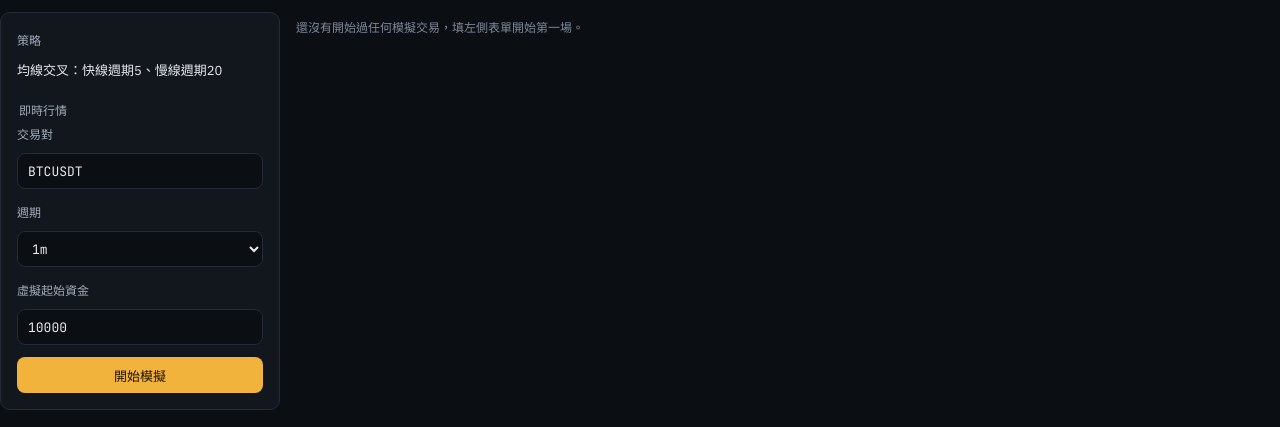
Test: PaperTrading › 收到 bar 事件時更新權益/部位/成交統計並累積曲線
The width and height of the screenshot is (1280, 427).
Check: the text "均線交叉：快線週期5、慢線週期20" is shown, box top-left (17, 62), bottom-right (222, 79)
Click the button "開始模擬" at [140, 375], box top-left (17, 357), bottom-right (263, 393)
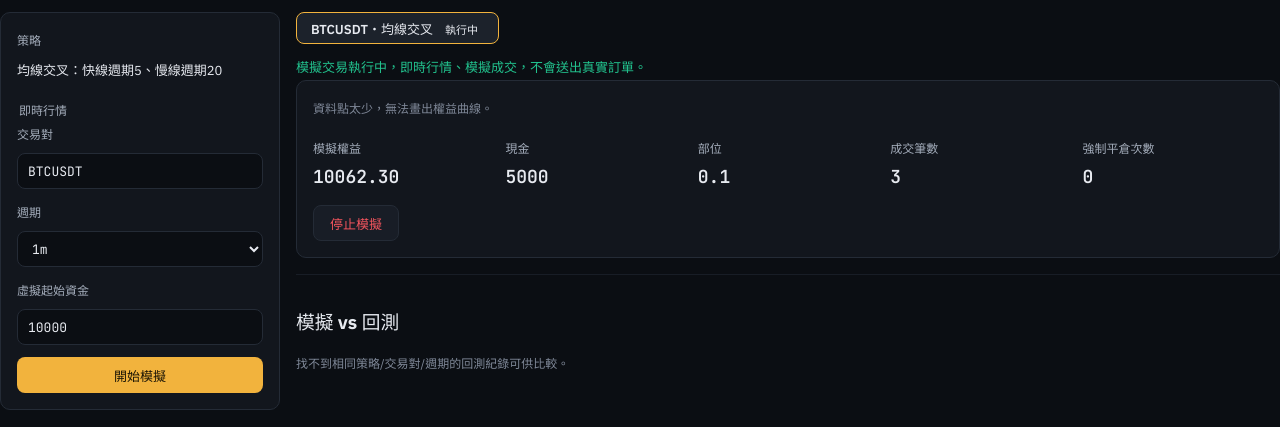
Check: the message "模擬交易執行中，即時行情、模擬成交，不會送出真實訂單。" is shown, box top-left (296, 59), bottom-right (647, 76)
Check: the element named "模擬交易結果" is shown, box top-left (296, 80), bottom-right (1279, 258)
Check: the text "10062.30" is shown, box top-left (313, 165), bottom-right (399, 188)
